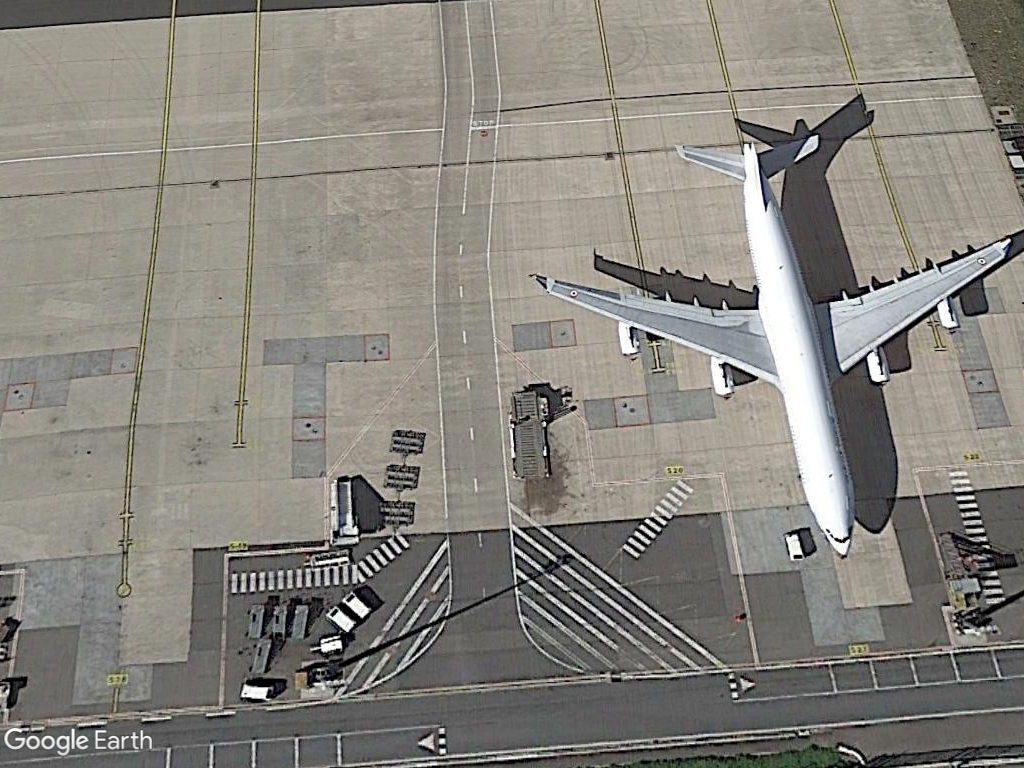airliner: (514, 141, 1011, 564)
